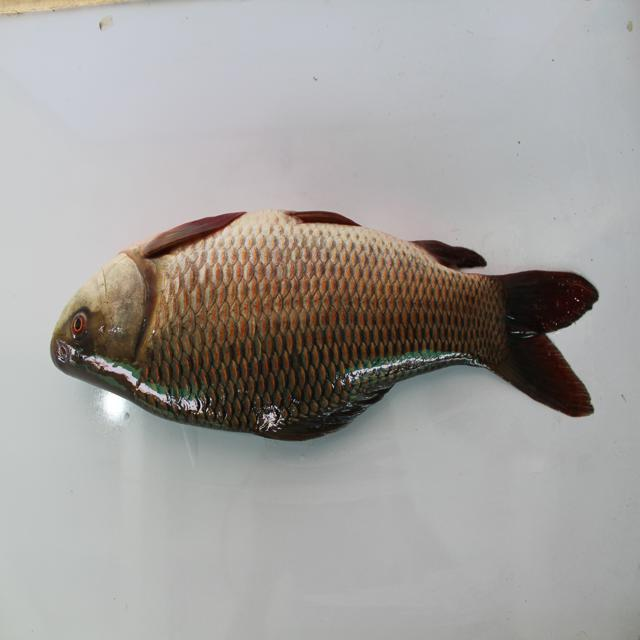Rohu: (43, 212, 609, 444)
